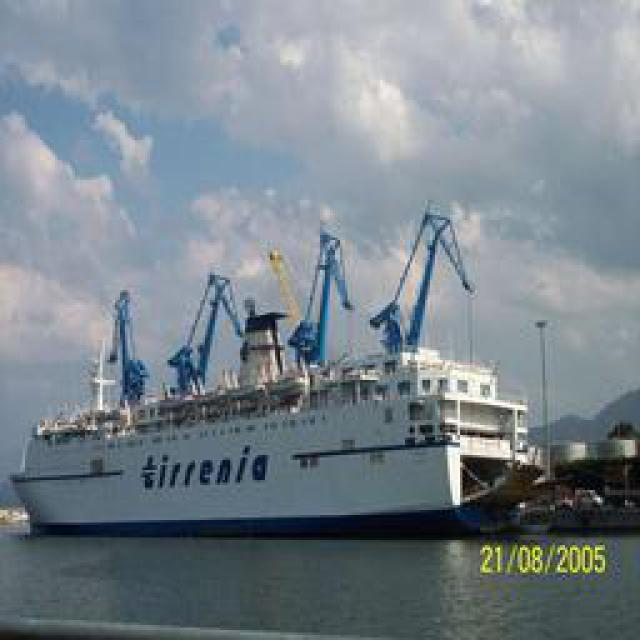Ship: (15, 195, 563, 535)
